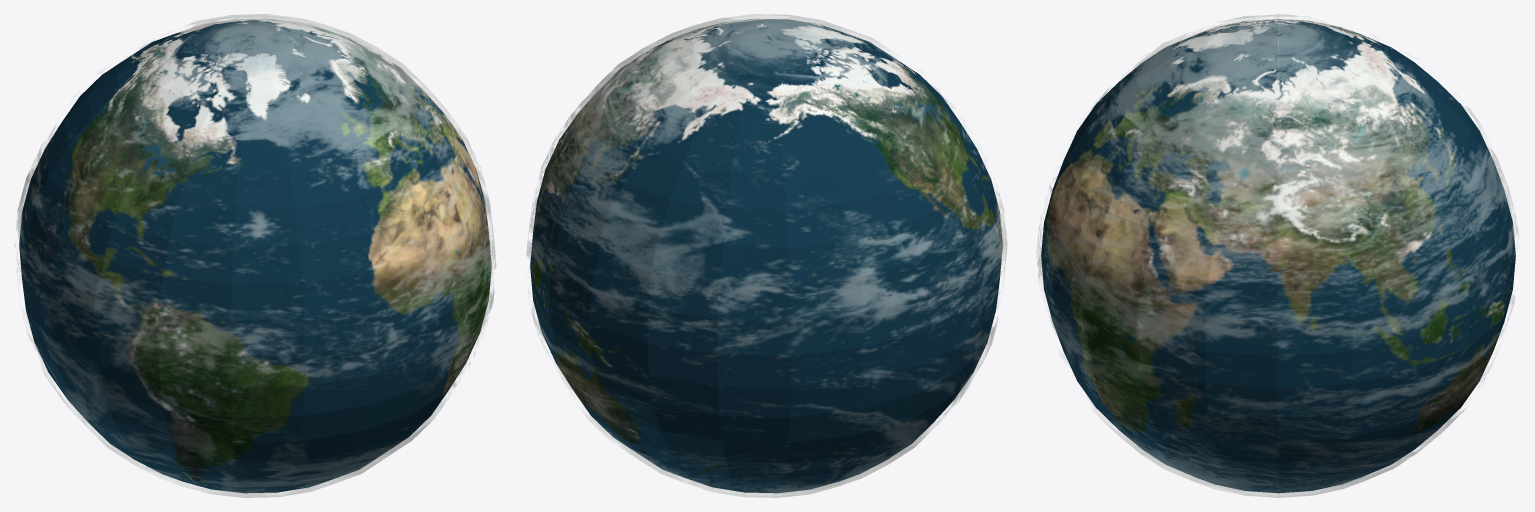
Rendered from Earth.obj.
The picture shows the model from 3 angles, left to right: view 1: azimuth 30°, elevation 25°; view 2: azimuth 150°, elevation 25°; view 3: azimuth 270°, elevation 25°; orthographic projection.
Visible parts, largest first — view 1: earth, atmosphere; view 2: earth, atmosphere; view 3: earth, atmosphere.
Part boxes in pixels (<box>): earth: <box>19,18,491,493</box>; atmosphere: <box>14,14,496,497</box>; earth: <box>530,18,1002,493</box>; atmosphere: <box>526,14,1007,497</box>; earth: <box>1041,18,1515,493</box>; atmosphere: <box>1036,14,1518,497</box>.
Size of the model in its own units: 0.969 by 0.969 by 0.969.
